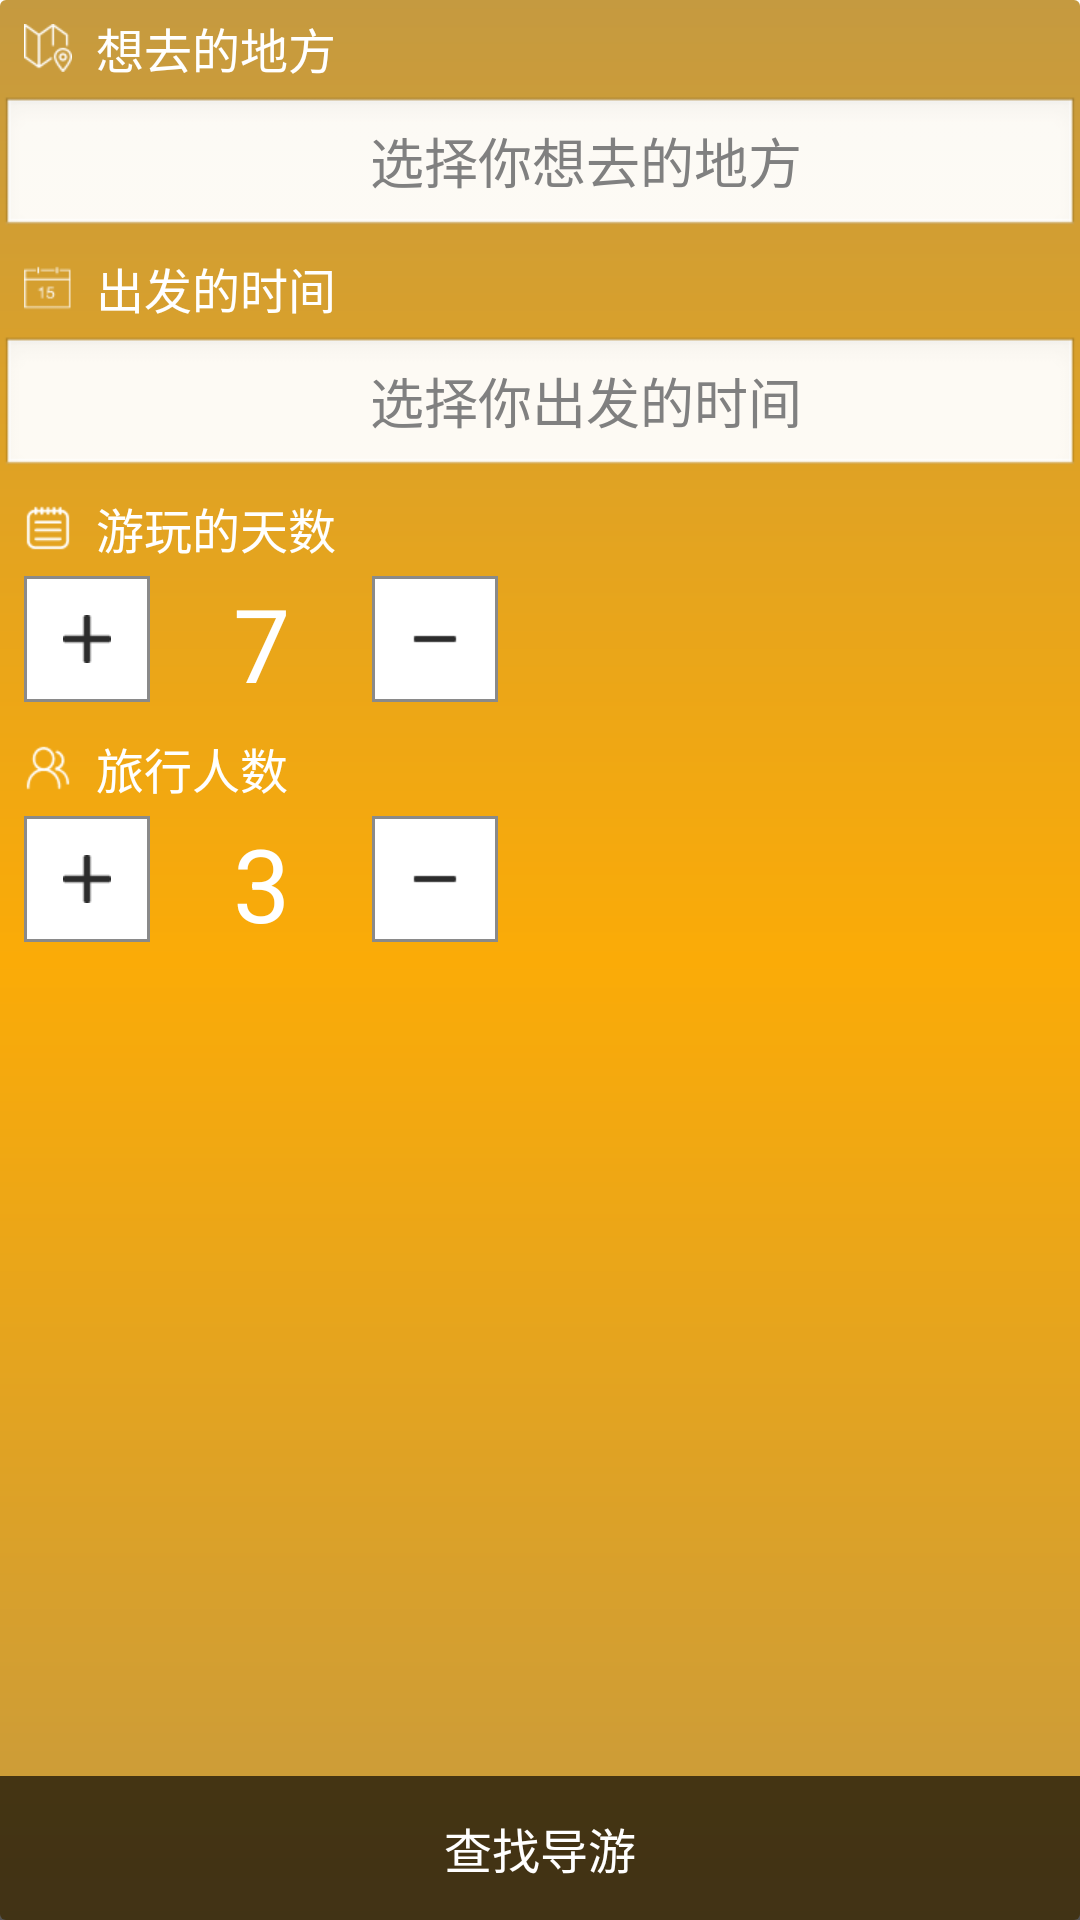

Screen size 1080w x 1920h. Icon name, then its box in pixels as (x1, y1, x2, y2):
addperson: (24, 576, 150, 702), (24, 816, 150, 942)
arragement main amount: (26, 746, 70, 790)
arragement main place: (0, 0, 72, 72)
arragement main time: (24, 267, 71, 309)
decreaseperson: (372, 576, 498, 702), (372, 816, 498, 942)
